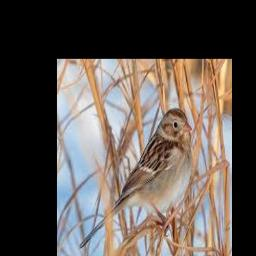Sparrow: (79, 108, 192, 250)
